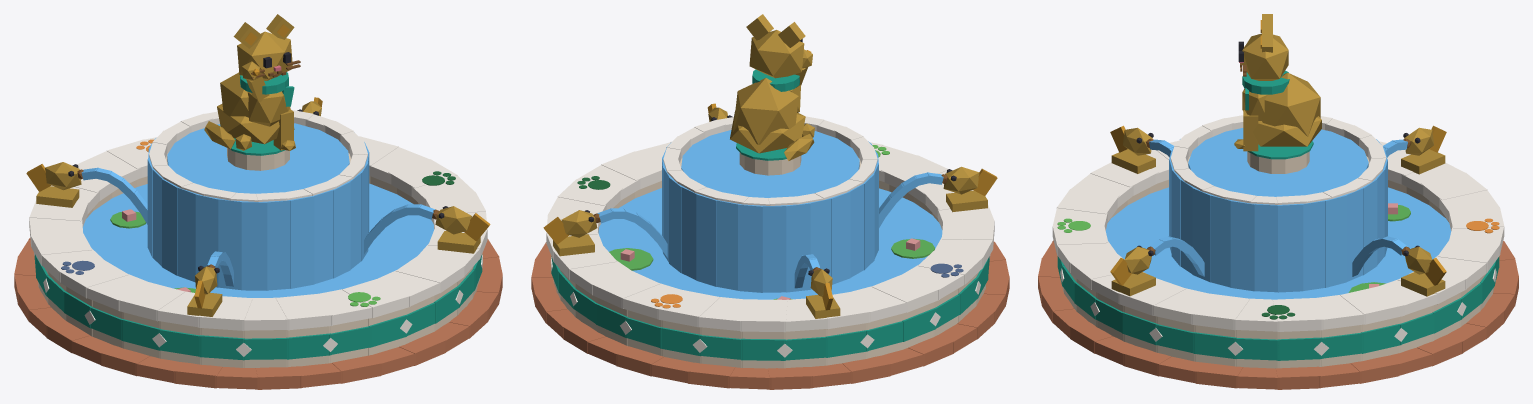
The model's file is CatCafe_Square_Fountain.glb.
The picture shows the model from 3 angles, left to right: view 1: azimuth 30°, elevation 25°; view 2: azimuth 150°, elevation 25°; view 3: azimuth 270°, elevation 25°; orthographic projection. The views are drawn at different scales.
Parts seen in each view (by area): view 1: CatCafe_Square_Fountain, CatCafe_Square_Fountain_Water, CatCafe_Square_Fountain_Decor; view 2: CatCafe_Square_Fountain, CatCafe_Square_Fountain_Water, CatCafe_Square_Fountain_Decor; view 3: CatCafe_Square_Fountain, CatCafe_Square_Fountain_Water, CatCafe_Square_Fountain_Decor.
Boxes of the visible parts, left/top/right/bottom form: CatCafe_Square_Fountain: left=14, top=14, right=502, bottom=389; CatCafe_Square_Fountain_Water: left=81, top=123, right=435, bottom=297; CatCafe_Square_Fountain_Decor: left=240, top=72, right=294, bottom=106; CatCafe_Square_Fountain: left=531, top=14, right=1009, bottom=389; CatCafe_Square_Fountain_Water: left=597, top=130, right=943, bottom=299; CatCafe_Square_Fountain_Decor: left=752, top=69, right=799, bottom=91; CatCafe_Square_Fountain: left=1038, top=14, right=1518, bottom=389; CatCafe_Square_Fountain_Water: left=1105, top=128, right=1451, bottom=299; CatCafe_Square_Fountain_Decor: left=1242, top=70, right=1289, bottom=110.
Bounding box in the file's own units: 13.05 × 7.98 × 13.05.
1 material, 1 textured.
